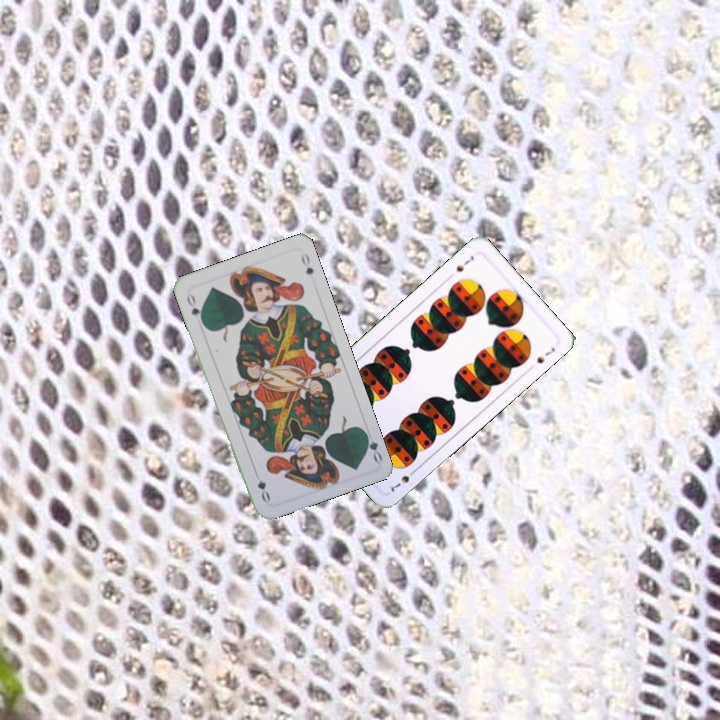GO: (359, 426, 385, 465), (182, 290, 206, 327)
S7: (386, 465, 419, 495), (452, 251, 477, 274)
